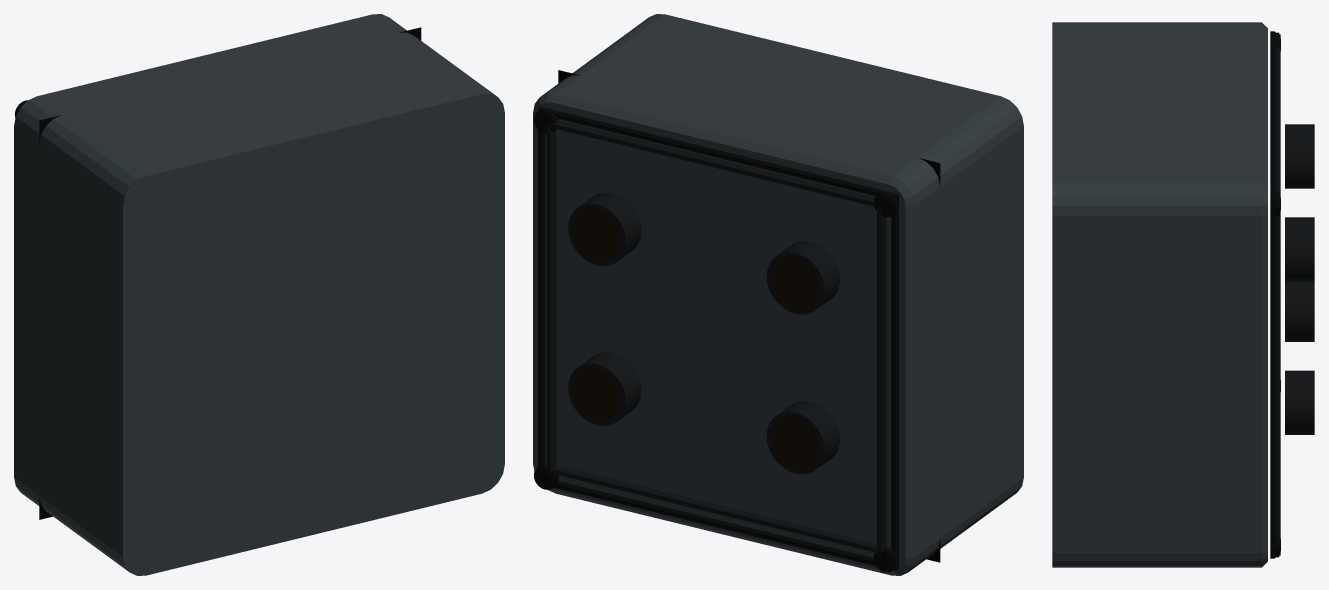
Rendered from MFDStudio.obj.
The picture shows the model from 3 angles, left to right: view 1: azimuth 30°, elevation 25°; view 2: azimuth 150°, elevation 25°; view 3: azimuth 270°, elevation 25°; orthographic projection. The views are drawn at different scales.
Parts seen in each view (by area): view 1: MFDStudioBody; view 2: MFDStudioBody, MFDStudioRwrLamp2, MFDStudioRwrLamp0, MFDStudioRwrLamp3, MFDStudioRwrLamp1, MFDStudioScrews; view 3: MFDStudioBody, MFDStudioScrews.
Boxes of the visible parts, left/top/right/bottom form: MFDStudioBody: left=14, top=14, right=504, bottom=575; MFDStudioBody: left=533, top=14, right=1023, bottom=575; MFDStudioRwrLamp2: left=572, top=368, right=621, bottom=421; MFDStudioRwrLamp0: left=771, top=256, right=820, bottom=309; MFDStudioRwrLamp3: left=771, top=417, right=819, bottom=469; MFDStudioRwrLamp1: left=572, top=208, right=621, bottom=261; MFDStudioScrews: left=534, top=109, right=897, bottom=572; MFDStudioBody: left=1052, top=22, right=1314, bottom=567; MFDStudioScrews: left=1274, top=32, right=1280, bottom=557.
Size of the model in its own units: 0.1 by 0.1 by 0.062.
Materials: 10 (1 with a texture image).
